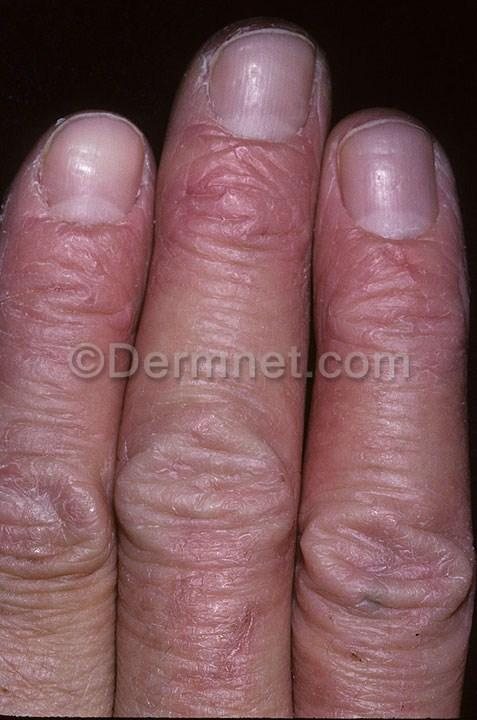Eczema: (168, 151, 332, 292), (339, 226, 455, 378), (0, 232, 103, 361)
